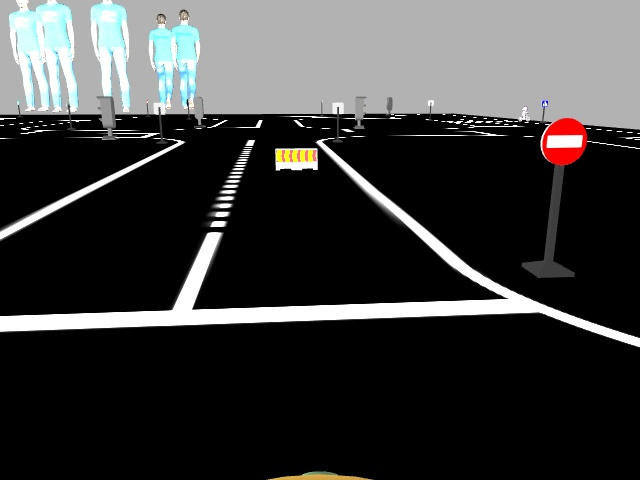ClosedRoadStand: (275, 147, 319, 168)
NoEntry: (541, 121, 587, 160)
